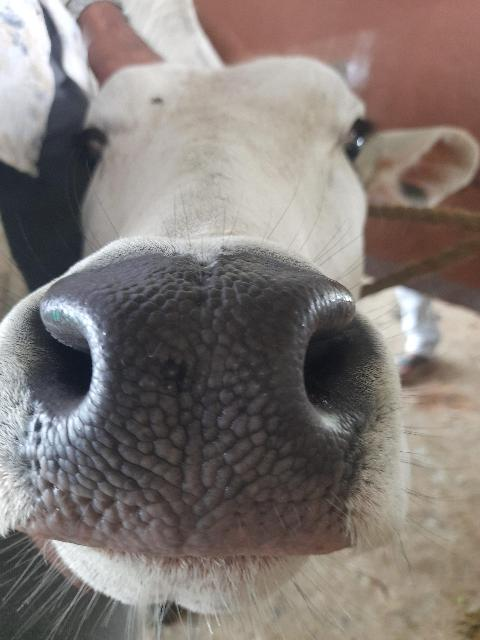Muzzle: (77, 276, 326, 552)
